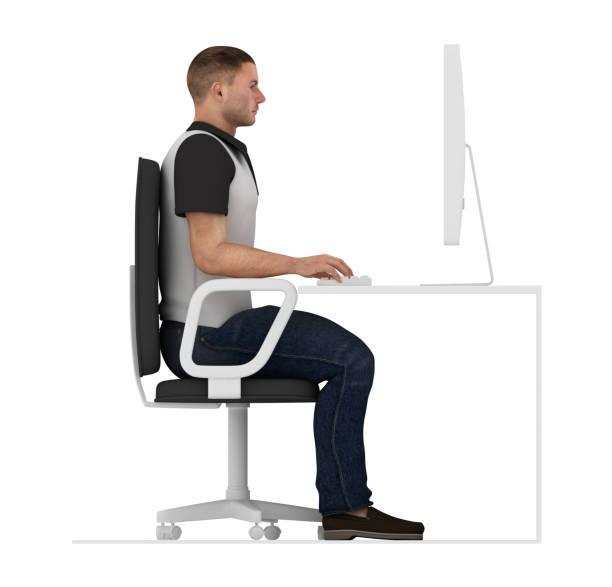Good Sitting Posture: (154, 43, 426, 542)
